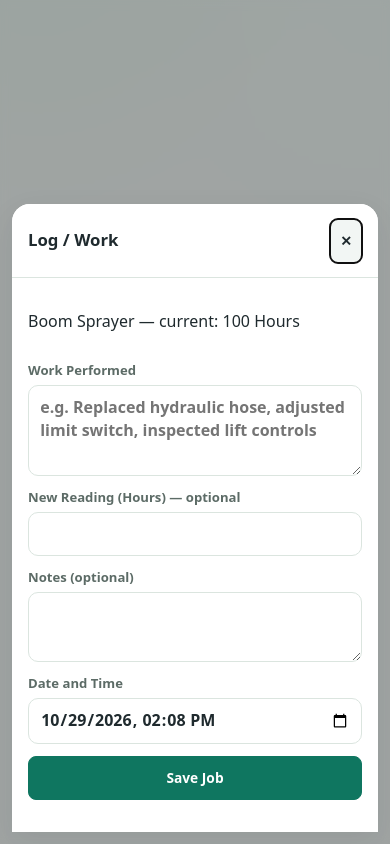
Scenario: WorkLogSheet › a failed save keeps the form open with the entered text intact (no partial/silent loss)
Step 1. Type "Attempted service" into the text box labelled "Work Performed" → (195, 430), box left=28, top=385, right=362, bottom=476
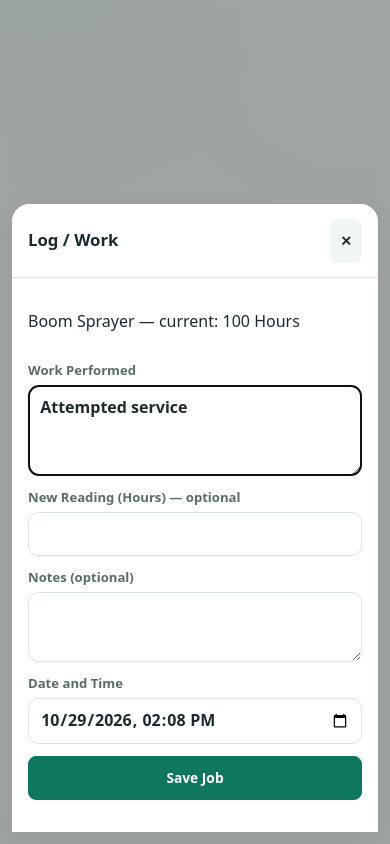
Step 2. Type "50" into the number field labelled "New Reading (Hours) — optional" → (195, 534), box left=28, top=512, right=362, bottom=556
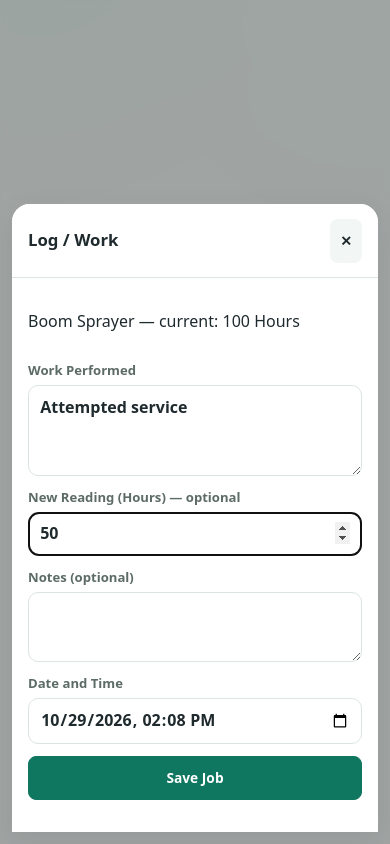
Step 3. Click the button "Save Job" → (195, 778), box left=28, top=756, right=362, bottom=800
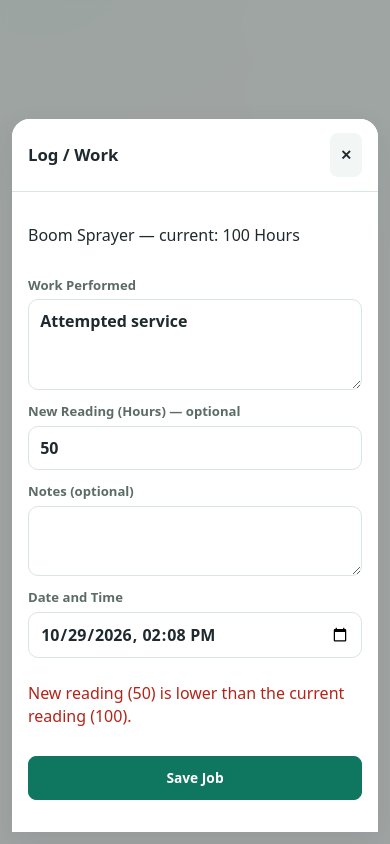
Expected: the text "New reading (50) is lower than the current reading (100)." is shown, left=28, top=682, right=362, bottom=728
